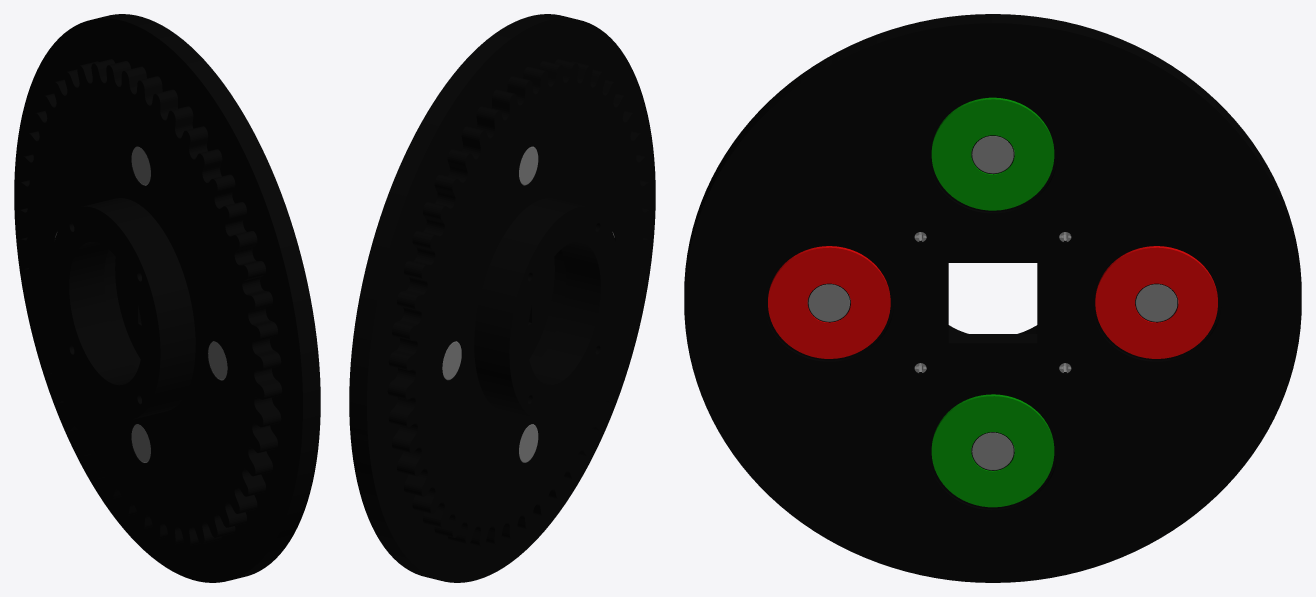
The model's file is Wheel R Asm.dae.
3 views of the same model, side by side, from view 1: azimuth 30°, elevation 25°; view 2: azimuth 150°, elevation 25°; view 3: azimuth 270°, elevation 25° (orthographic). The views are drawn at different scales.
Visible parts, largest first — view 1: node; view 2: node; view 3: node.
Part boxes in pixels (x1,y1,x2,y2): node: (14,14,320,582); node: (349,14,655,582); node: (684,14,1301,582).
Bounding box in the file's own units: 12.85 × 90.55 × 90.55.
